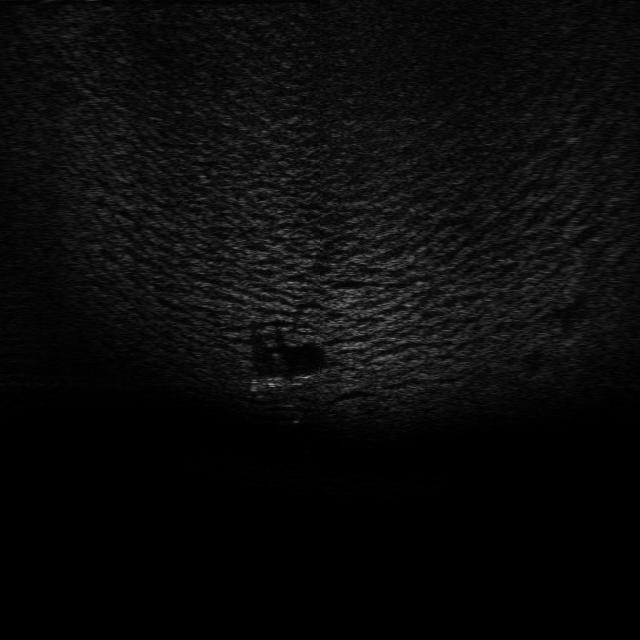plane: (246, 369, 320, 395)
